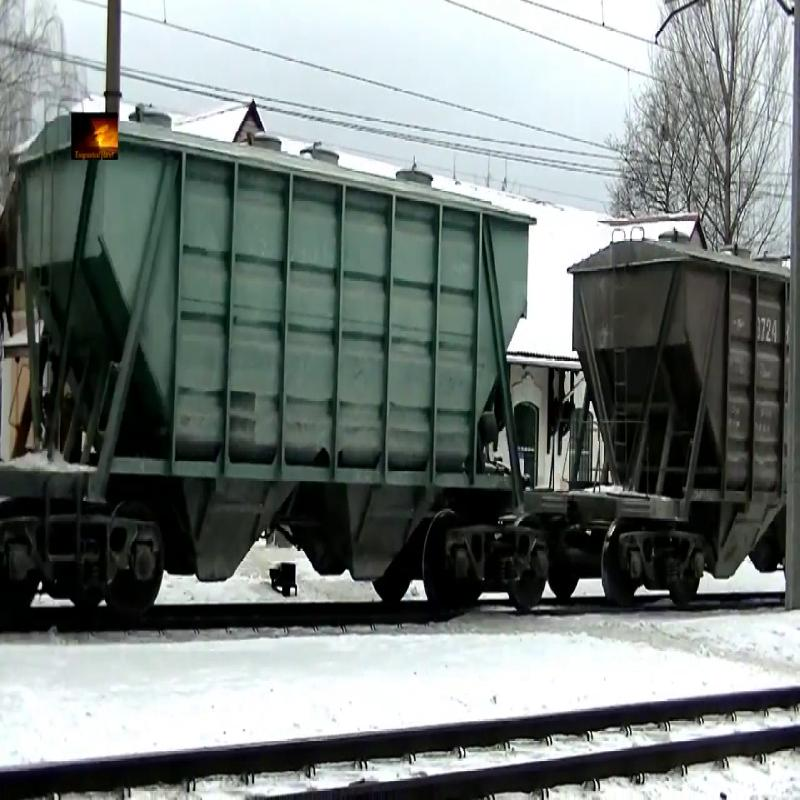train: (6, 124, 542, 608)
